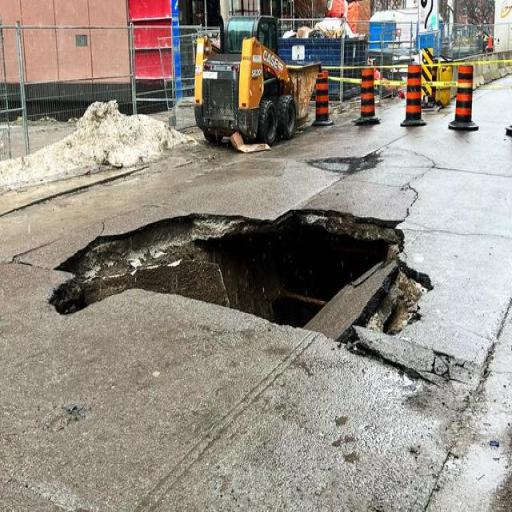Concentric_Crack: (50, 210, 466, 382)
